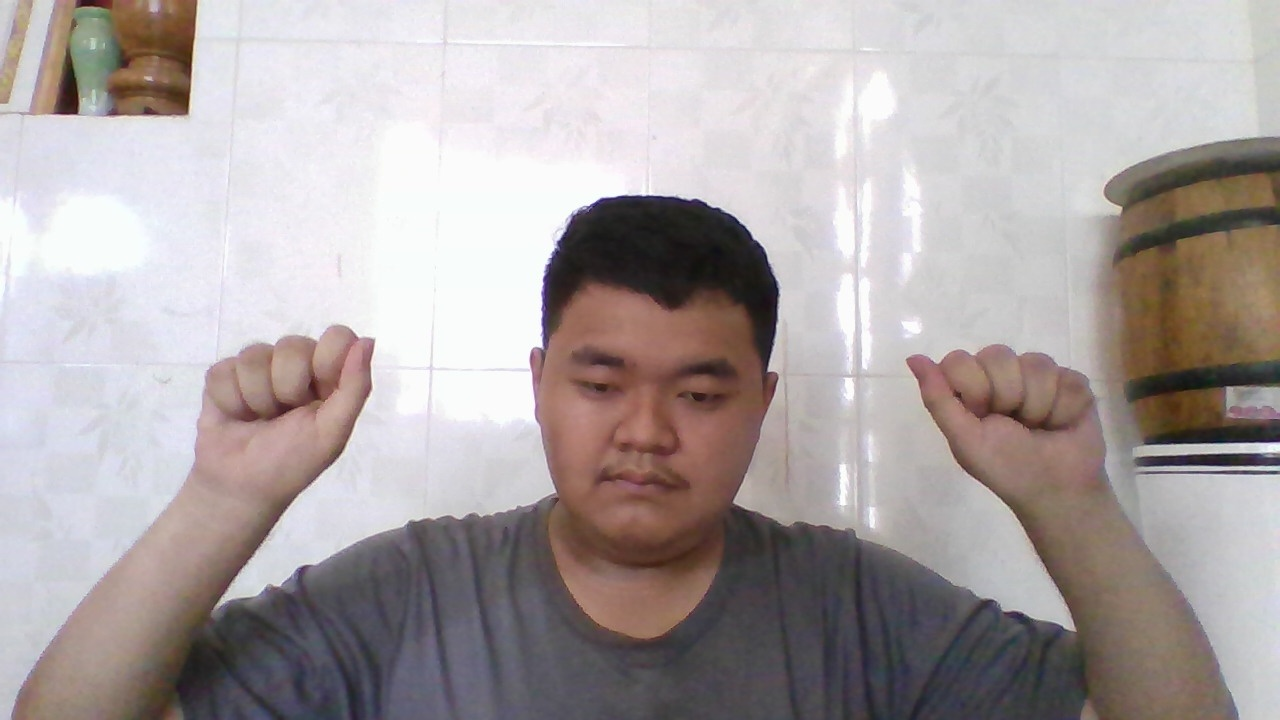A: (206, 316, 382, 503), (898, 335, 1086, 504)
